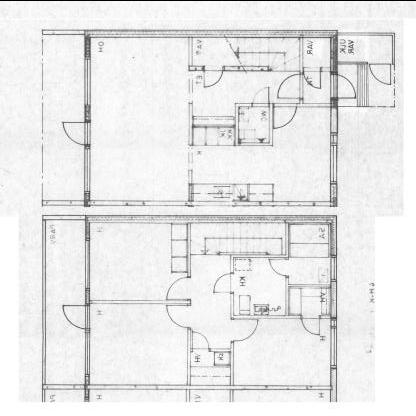door: (326, 68, 358, 104), (275, 68, 307, 100), (164, 270, 195, 303), (163, 303, 193, 333), (232, 316, 260, 348), (271, 100, 299, 132), (366, 59, 394, 87), (189, 327, 213, 357), (211, 263, 233, 295), (299, 64, 325, 90), (248, 84, 272, 112), (199, 63, 227, 87), (299, 310, 322, 335), (268, 257, 290, 282)
window: (325, 129, 341, 192), (82, 53, 94, 112), (328, 314, 340, 372), (83, 236, 93, 291), (83, 145, 93, 198), (326, 251, 342, 283), (83, 330, 93, 380)
